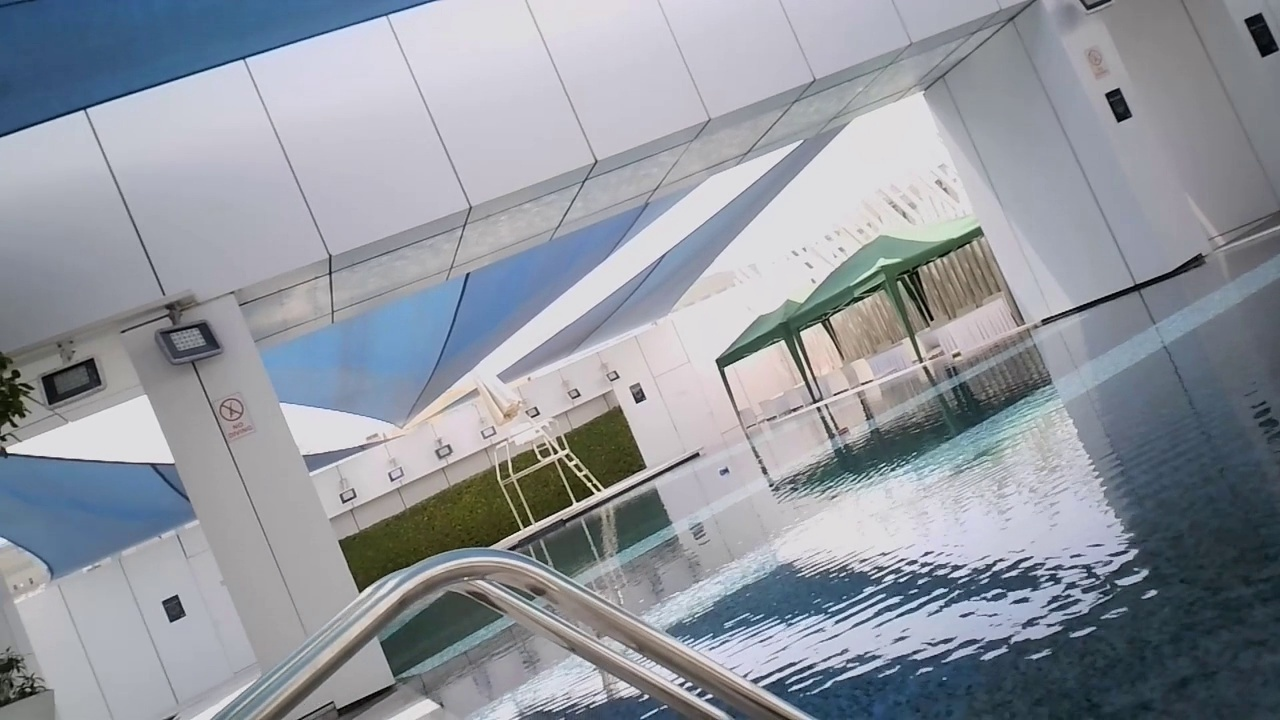debris: (945, 347, 966, 363), (712, 464, 732, 478), (833, 425, 852, 439)
